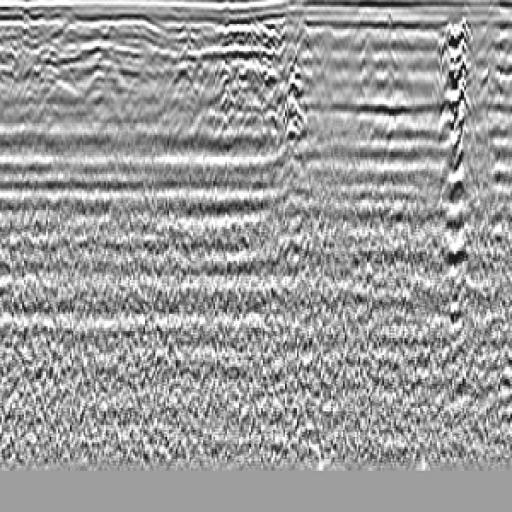metalic: (266, 25, 326, 243)
non-metallic: (426, 7, 488, 315)
